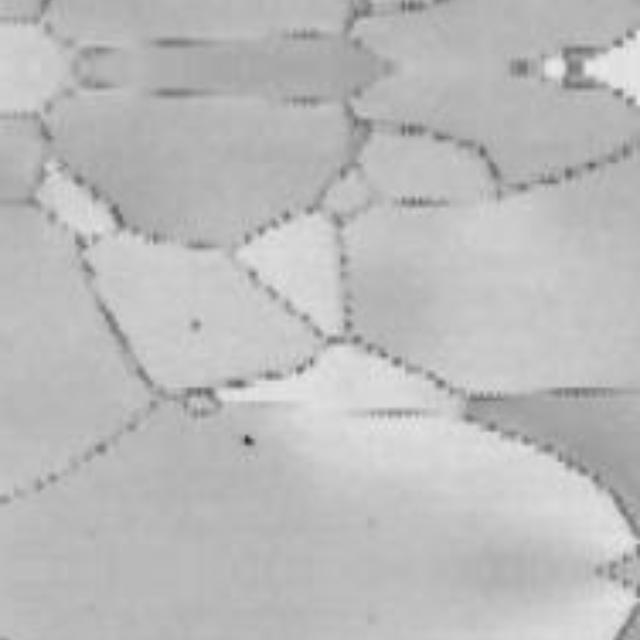good_void: (186, 321, 202, 340), (241, 434, 255, 450)
